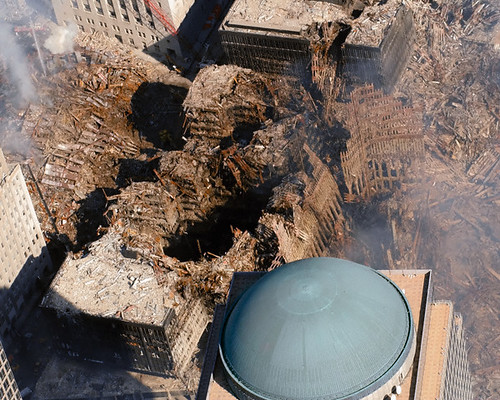building: (8, 28, 500, 274), (211, 257, 472, 400)
